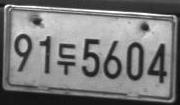0: (125, 41, 145, 81)
1: (36, 34, 56, 74)
4: (145, 42, 168, 83)
5: (81, 38, 100, 77)
6: (102, 39, 123, 80)
9: (12, 33, 33, 72)
두: (57, 42, 76, 76)
